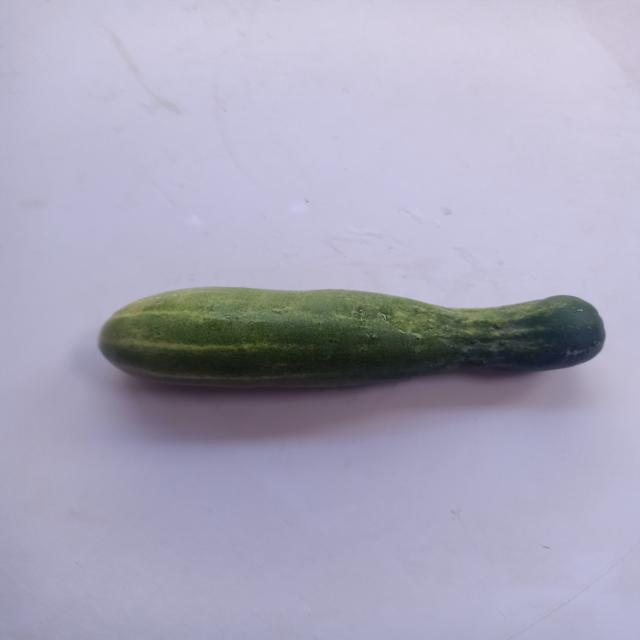Cucumber: (86, 279, 635, 413)
